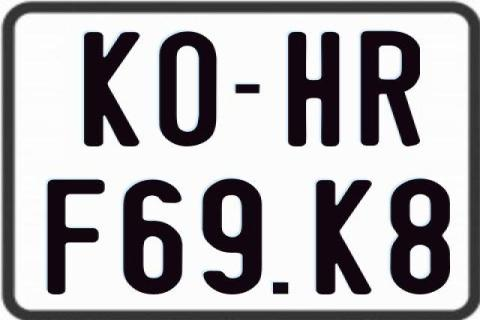0: (120, 177, 183, 295), (390, 177, 452, 296), (200, 178, 262, 296), (157, 29, 215, 145)
F: (46, 177, 108, 297)
H: (286, 31, 340, 149)
K: (82, 32, 138, 147), (315, 179, 371, 293)
R: (361, 31, 424, 146)
